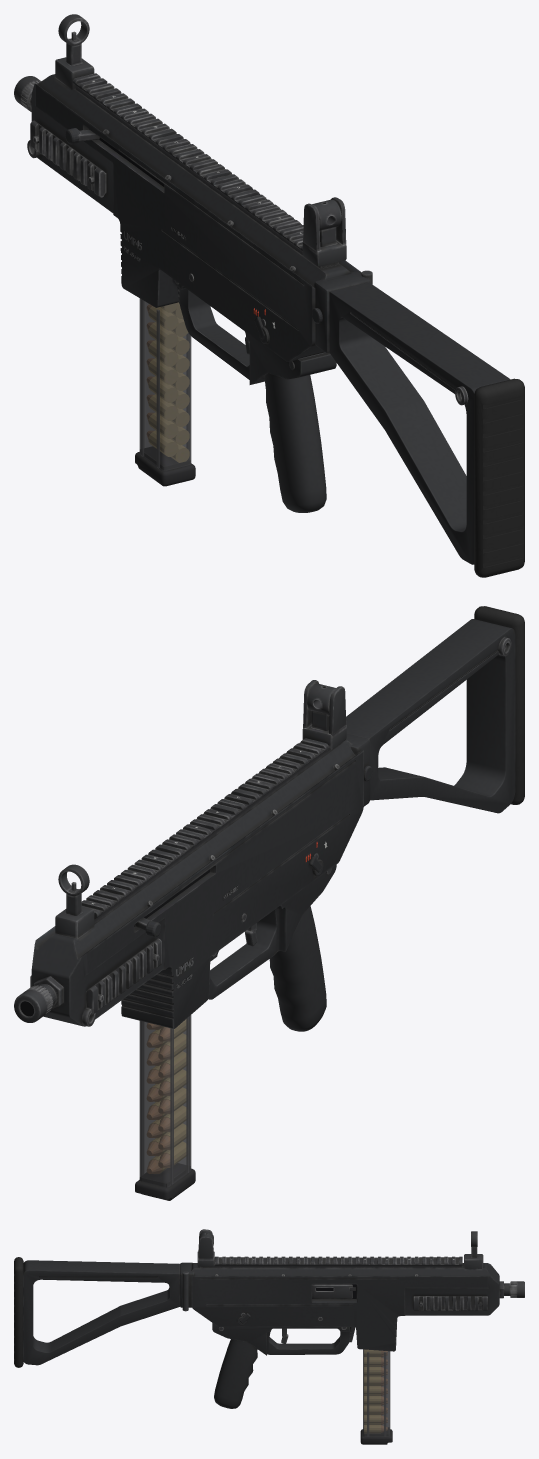
File: ump_built.glb
3 views of the same model, one above another, from view 1: azimuth 30°, elevation 25°; view 2: azimuth 150°, elevation 25°; view 3: azimuth 270°, elevation 25° (orthographic). The views are drawn at different scales.
Parts seen in each view (by area): view 1: Body, Shell, Magazine; view 2: Body, Shell, Magazine; view 3: Body, Shell, Magazine.
Boxes of the visible parts, left/top/right/bottom form: Body: left=14, top=14, right=524, bottom=577; Shell: left=139, top=298, right=191, bottom=470; Magazine: left=135, top=302, right=195, bottom=486; Body: left=14, top=606, right=524, bottom=1031; Shell: left=139, top=1015, right=191, bottom=1187; Magazine: left=135, top=1020, right=195, bottom=1200; Body: left=14, top=1229, right=524, bottom=1408; Shell: left=363, top=1349, right=390, bottom=1436; Magazine: left=360, top=1349, right=392, bottom=1444.
Size of the model in its own units: 0.0658 by 0.3114 by 0.6904.
Materials: 2 (1 with a texture image).
